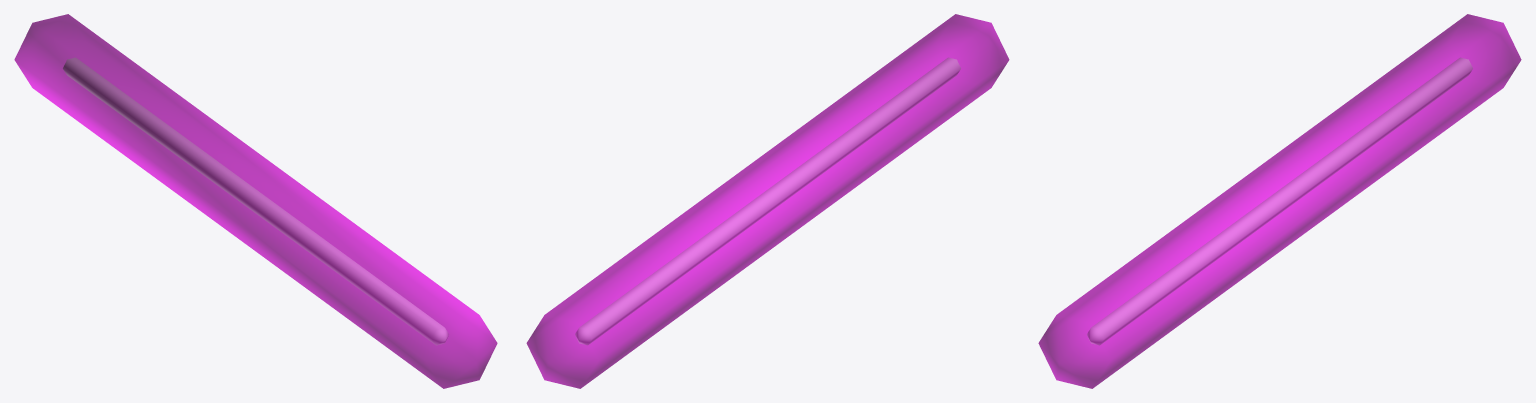
Rendered from magenta_turret_laser_model.fbx.
The picture shows the model from 3 angles, left to right: view 1: azimuth 30°, elevation 25°; view 2: azimuth 150°, elevation 25°; view 3: azimuth 330°, elevation 25°; orthographic projection.
Visible parts, largest first — view 1: glow, bolt; view 2: glow, bolt; view 3: glow, bolt.
Boxes of the visible parts, left/top/right/bottom form: glow: left=14, top=14, right=497, bottom=388; bolt: left=63, top=57, right=448, bottom=345; glow: left=526, top=14, right=1009, bottom=388; bolt: left=575, top=57, right=960, bottom=345; glow: left=1038, top=14, right=1521, bottom=388; bolt: left=1087, top=57, right=1472, bottom=345.
Bounding box in the file's own units: 7.56 × 6.55 × 80.08.
